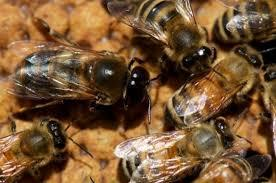worker-bee: (8, 19, 157, 110), (114, 120, 245, 182), (165, 45, 262, 128), (107, 0, 215, 74), (0, 118, 83, 182), (212, 0, 275, 43), (192, 153, 270, 182)
